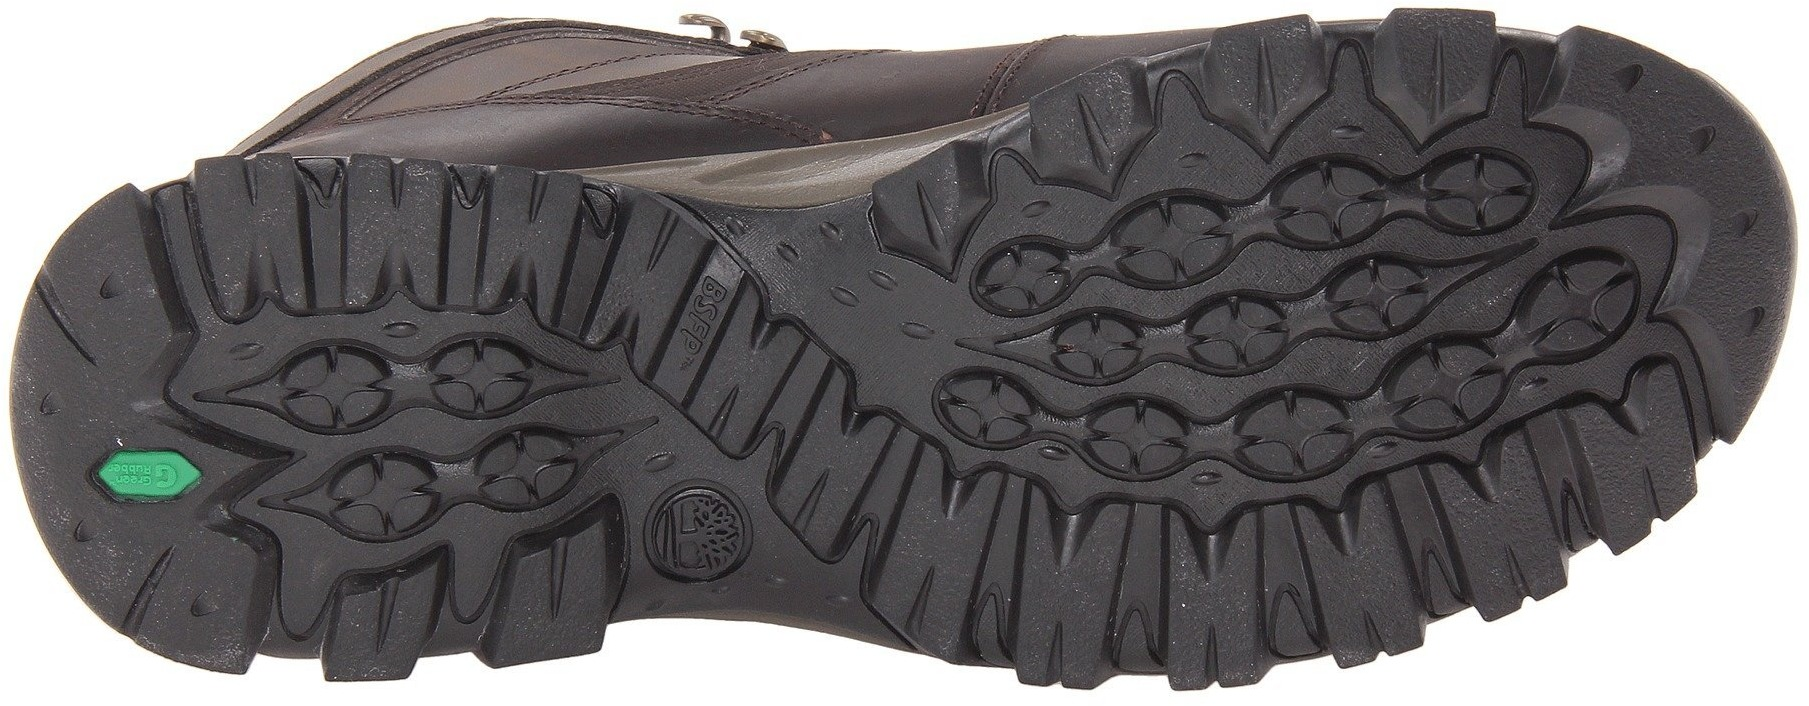bowtie: (1009, 452, 1268, 675), (311, 164, 476, 325), (1414, 425, 1570, 583)
circle: (949, 190, 1283, 501), (282, 302, 577, 570), (1277, 132, 1525, 360), (637, 476, 755, 586)
polygon: (89, 415, 209, 525)
text: (652, 268, 753, 365)
